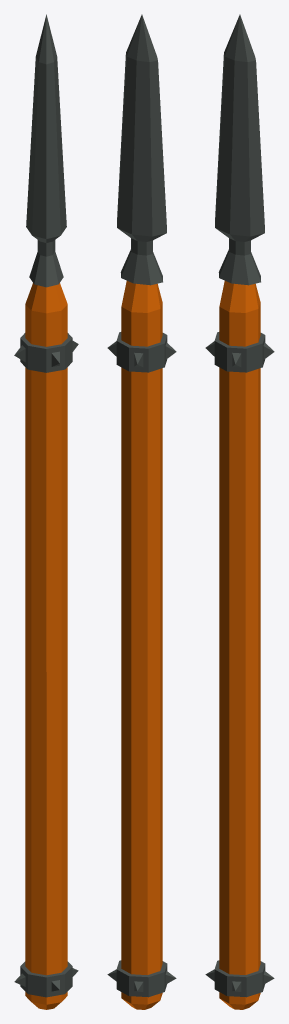
3 renders of one model, left to right at view 1: azimuth 90°, elevation 25°; view 2: azimuth 150°, elevation 25°; view 3: azimuth 330°, elevation 25°, orthographic.
Parts seen in each view (by area): view 1: Circle; view 2: Circle; view 3: Circle.
Boxes of the visible parts, x1,y1,x2,y2 form: Circle: (14, 14, 78, 1009); Circle: (107, 14, 176, 1009); Circle: (205, 14, 274, 1009).
Bounding box in the file's own units: 608 × 10279 × 608.
